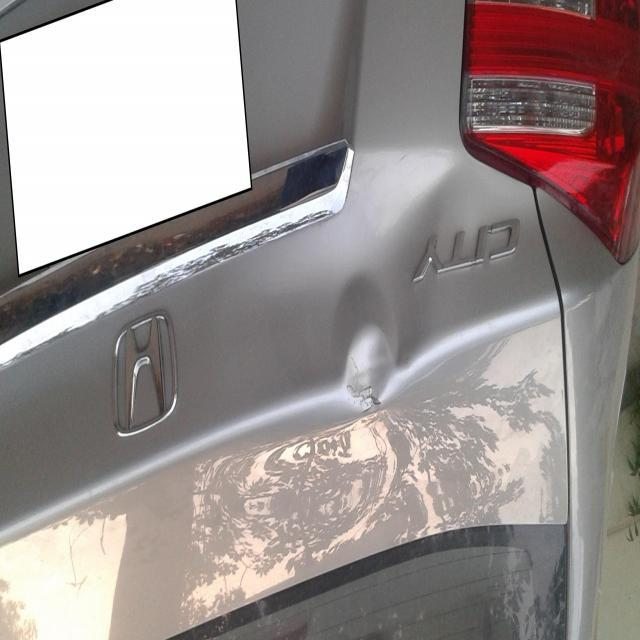dent: (279, 222, 426, 483)
